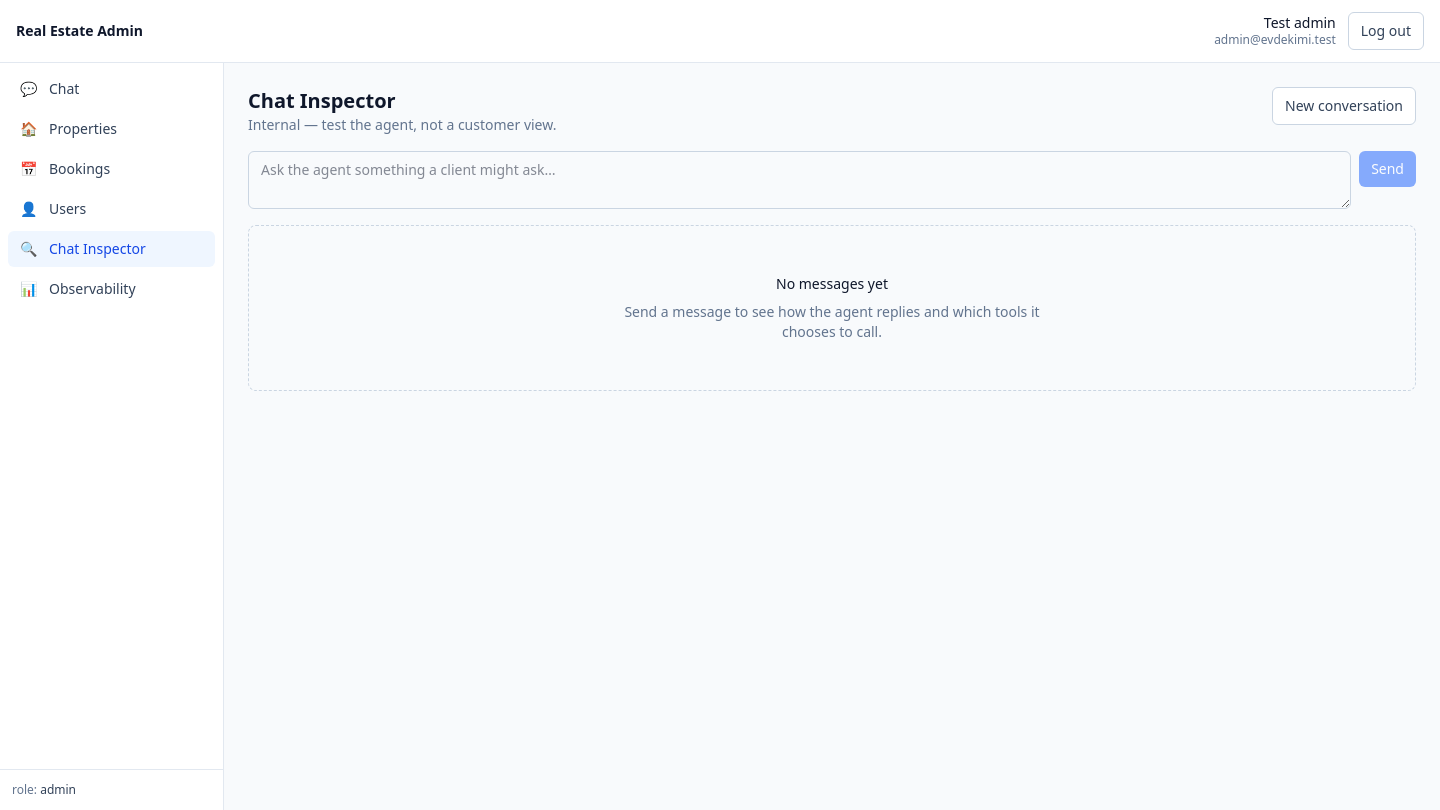
Scenario: ChatInspectorPage New conversation race › reset unlocks only after a failure, and the failed turn goes with it
Type "doomed" into the text box named "Message" at (800, 180), box [248,151,1351,209]
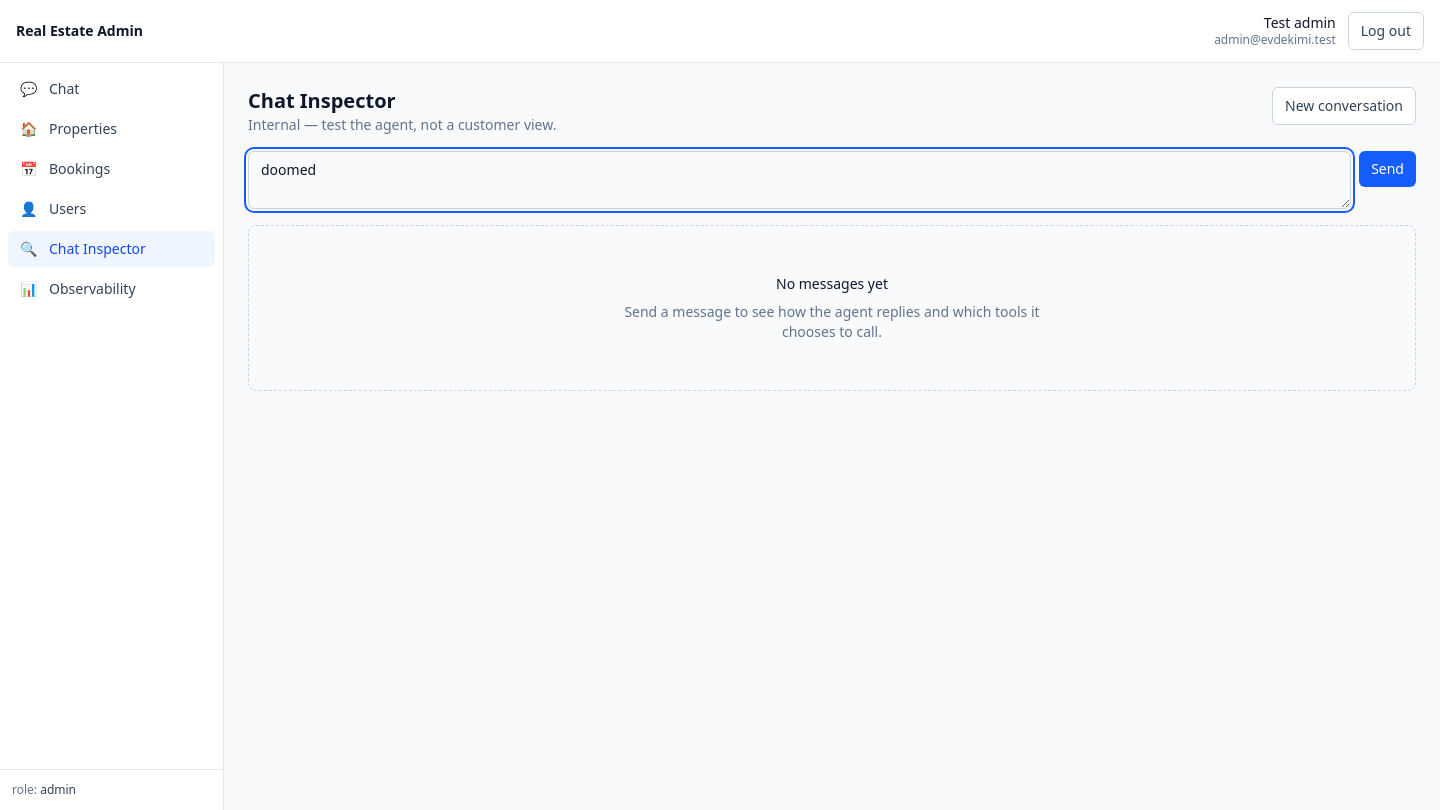
Click the button "Send" at (1388, 169), box [1359,151,1416,187]
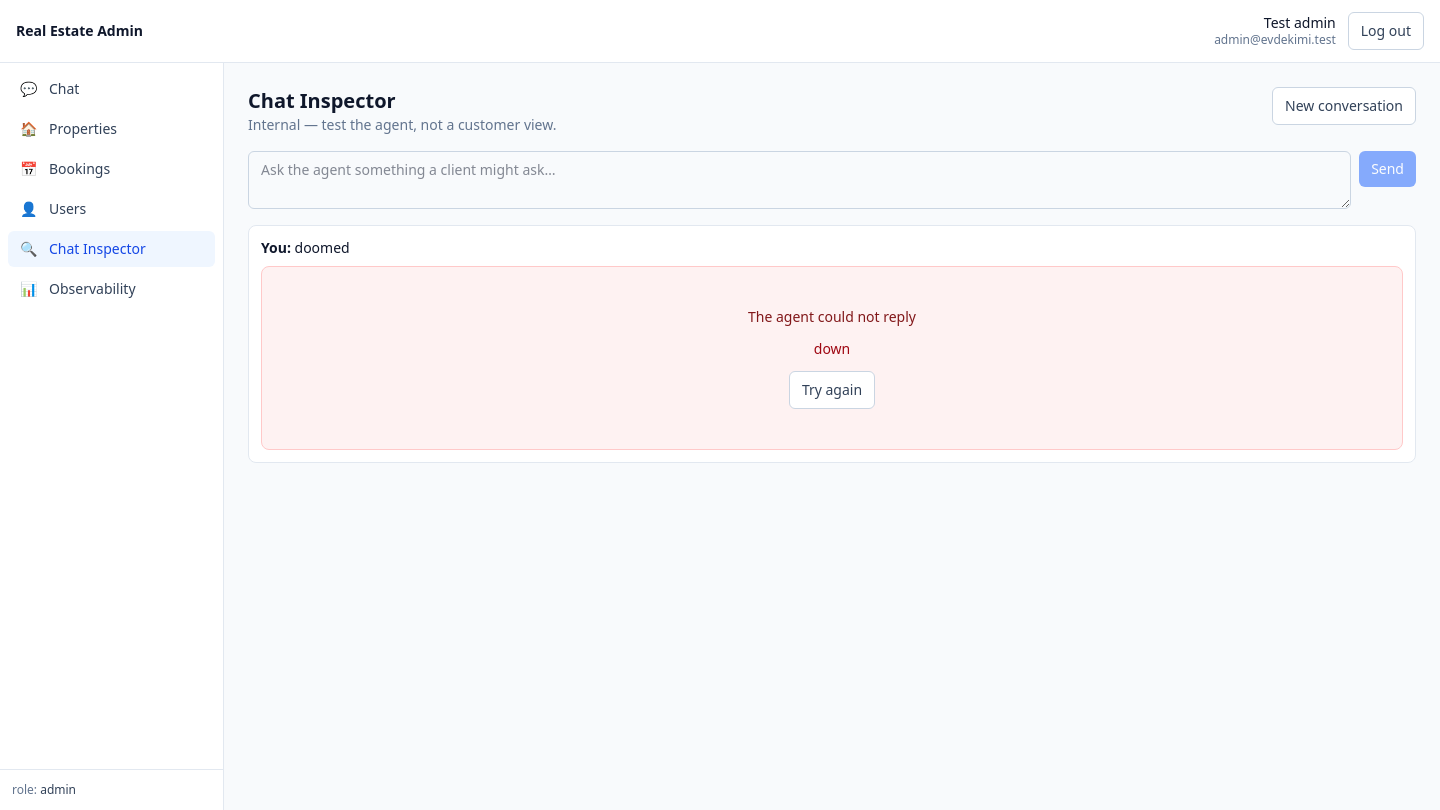
Expected: the message "The agent could not reply down Try again" is shown, [261,266,1403,450]
Click the button "New conversation" at (1344, 106), box [1272,87,1416,125]
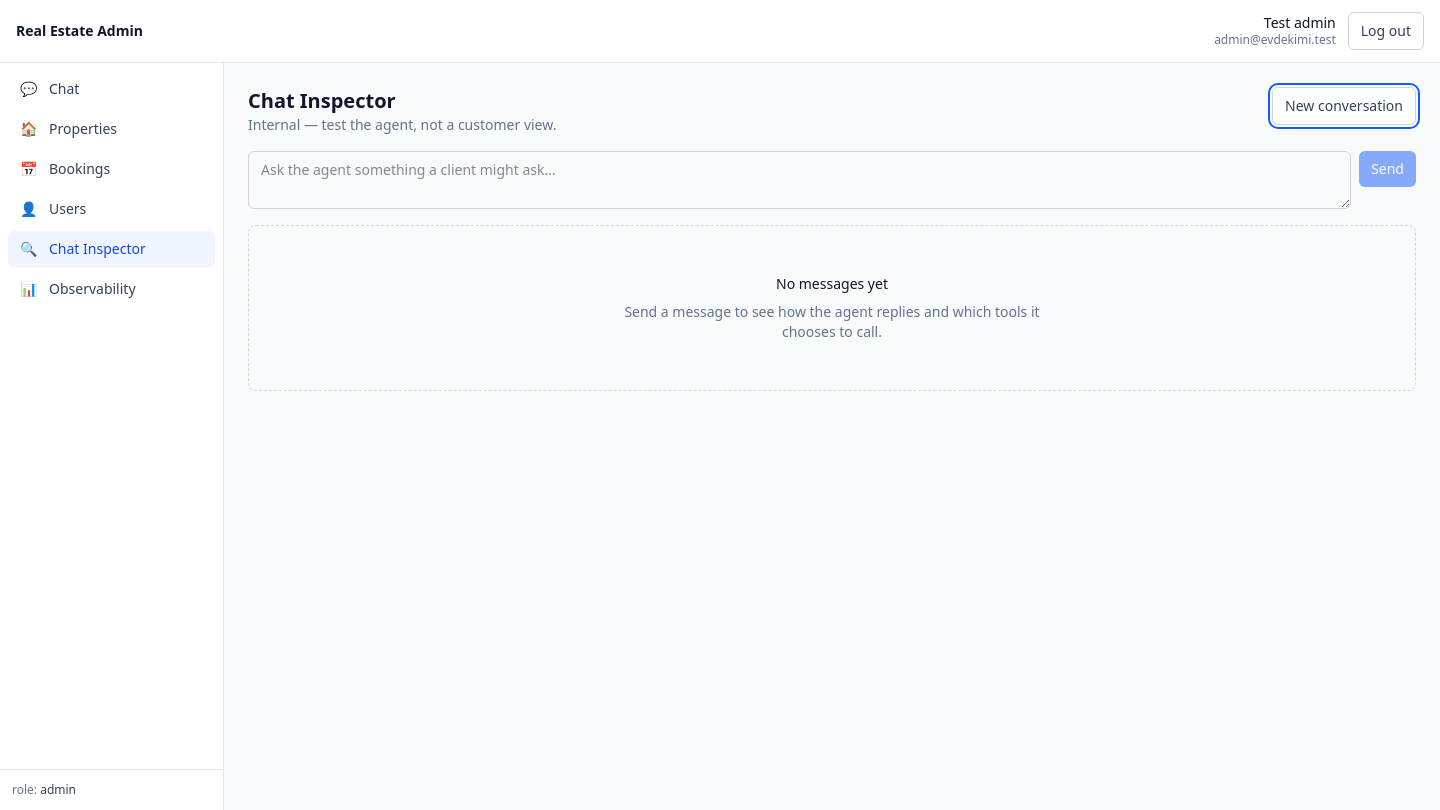
Expected: the text "doomed" is gone
Expected: the button "Try again" is gone
Expected: the element with test id "empty-state" is shown, [248,225,1416,391]
